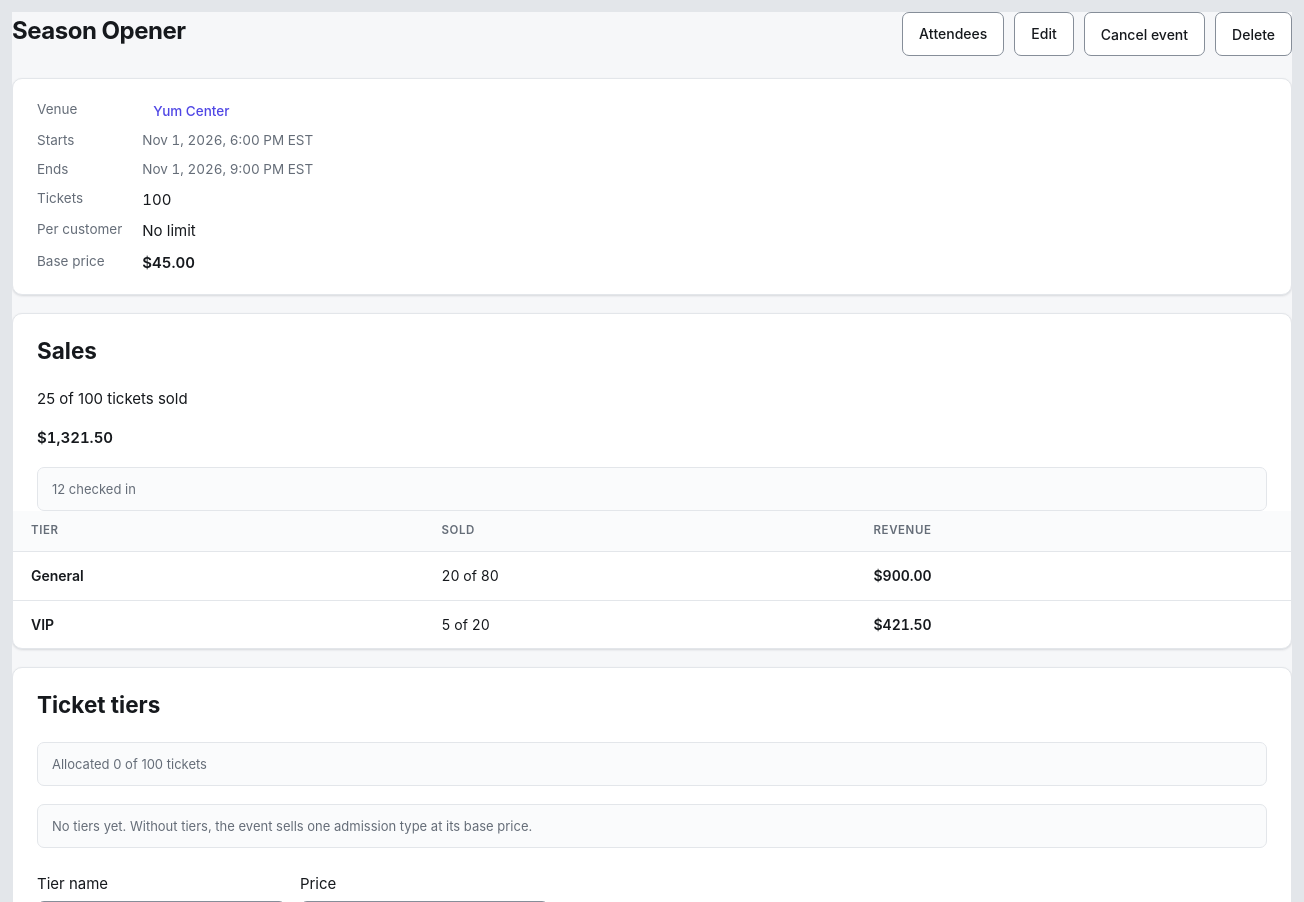
Scenario: Cancel event › refreshes the Sales card after cancelling, so refunded sales disappear
Expected: the text "25 of 100 tickets sold" is shown, [37, 389, 188, 408]
Step 1. Click the button "Cancel event" → (1144,34), box [1084, 12, 1205, 56]
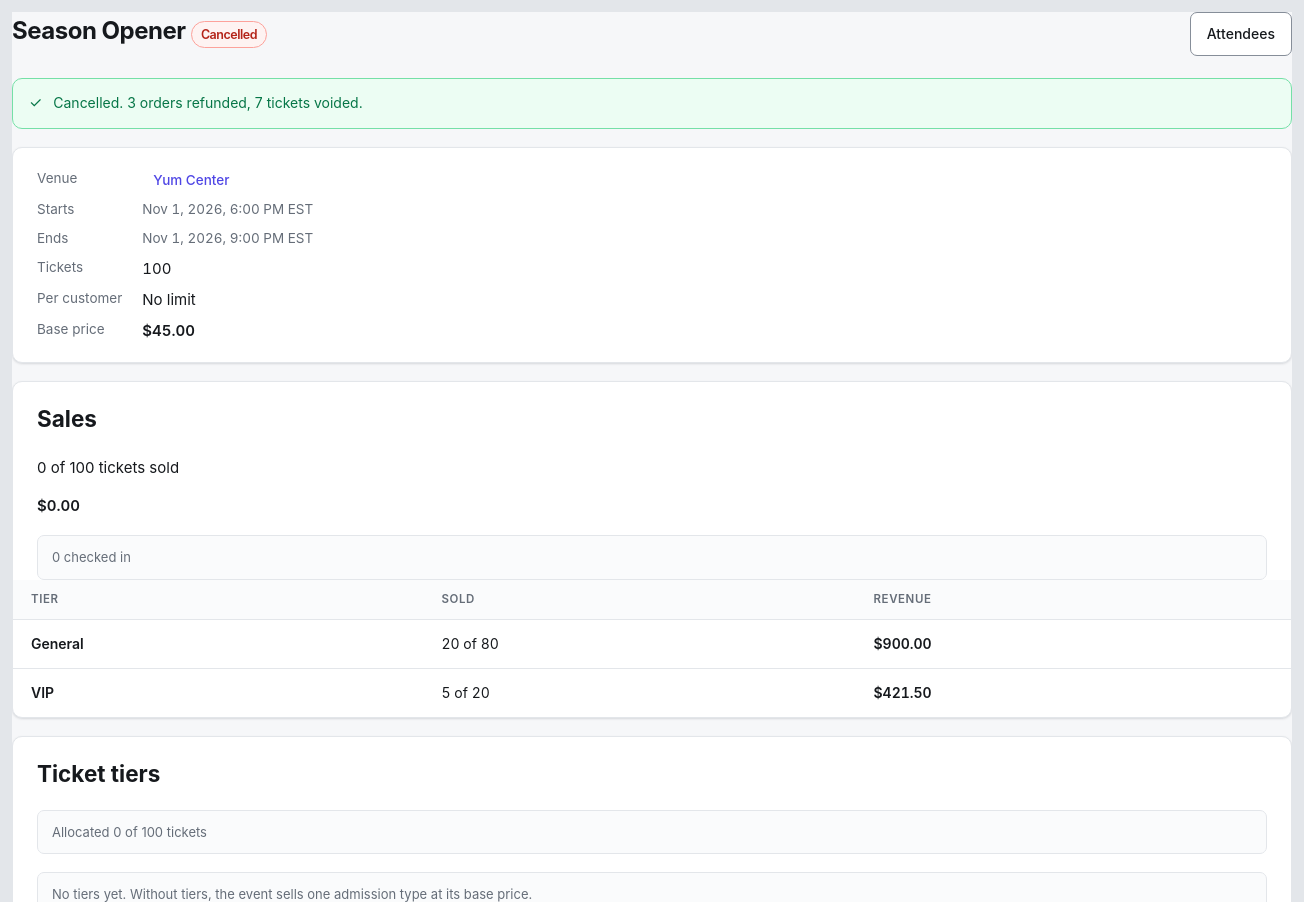
Now the text "0 of 100 tickets sold" is shown, box [37, 458, 179, 477]
